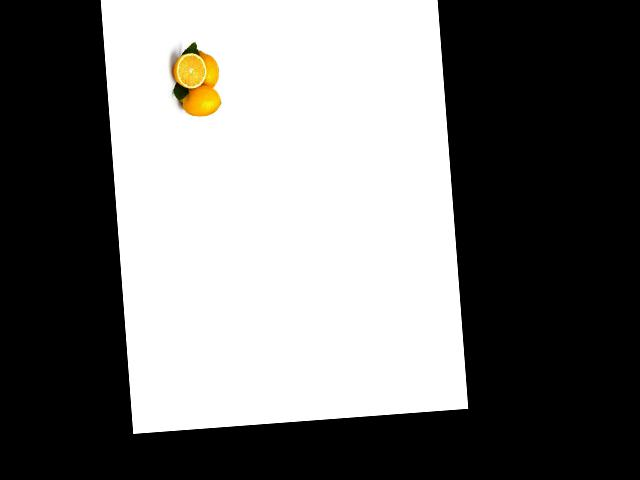lemon: (194, 46, 222, 87)
